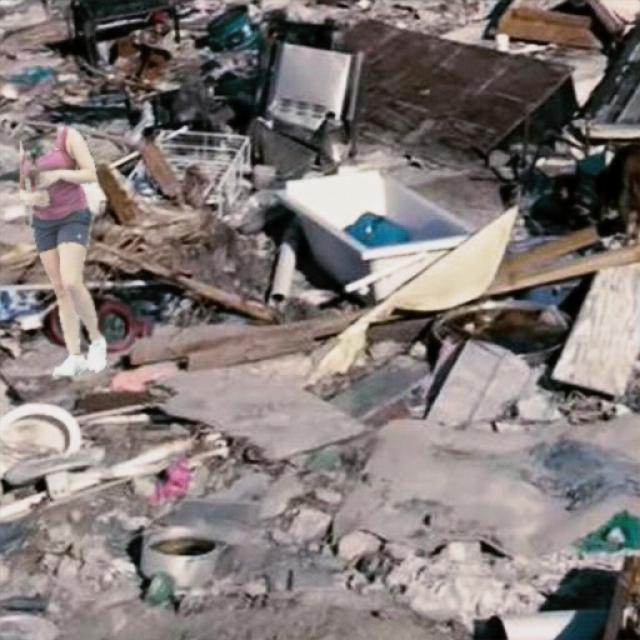Person in Rubble: (20, 126, 105, 375)
